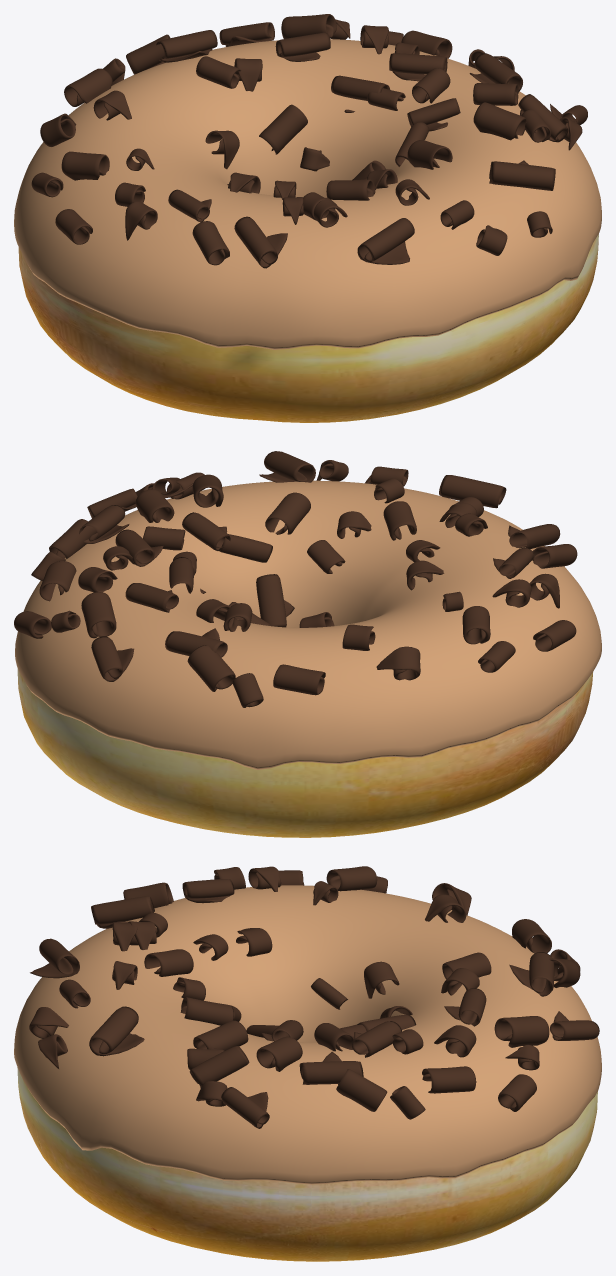
File: light dark curls.glb
The picture shows the model from 3 angles, top to bottom: view 1: azimuth 30°, elevation 25°; view 2: azimuth 150°, elevation 25°; view 3: azimuth 270°, elevation 25°; orthographic projection. The views are drawn at different scales.
Visible parts, largest first — view 1: chocolate.004, choco & straw, Torus; view 2: chocolate.004, choco & straw, Torus; view 3: chocolate.004, choco & straw, Torus.
Boxes of the visible parts, bbox=[...] form: chocolate.004: bbox=[14, 39, 601, 349]; choco & straw: bbox=[31, 14, 587, 268]; Torus: bbox=[18, 234, 598, 422]; chocolate.004: bbox=[15, 480, 601, 769]; choco & straw: bbox=[14, 451, 577, 707]; Torus: bbox=[17, 668, 592, 837]; chocolate.004: bbox=[14, 885, 601, 1184]; choco & straw: bbox=[29, 866, 599, 1128]; Torus: bbox=[17, 1067, 597, 1261].
Bounding box in the file's own units: 0.1988 × 0.0804 × 0.1971.
Materials: 3 (1 with a texture image).
